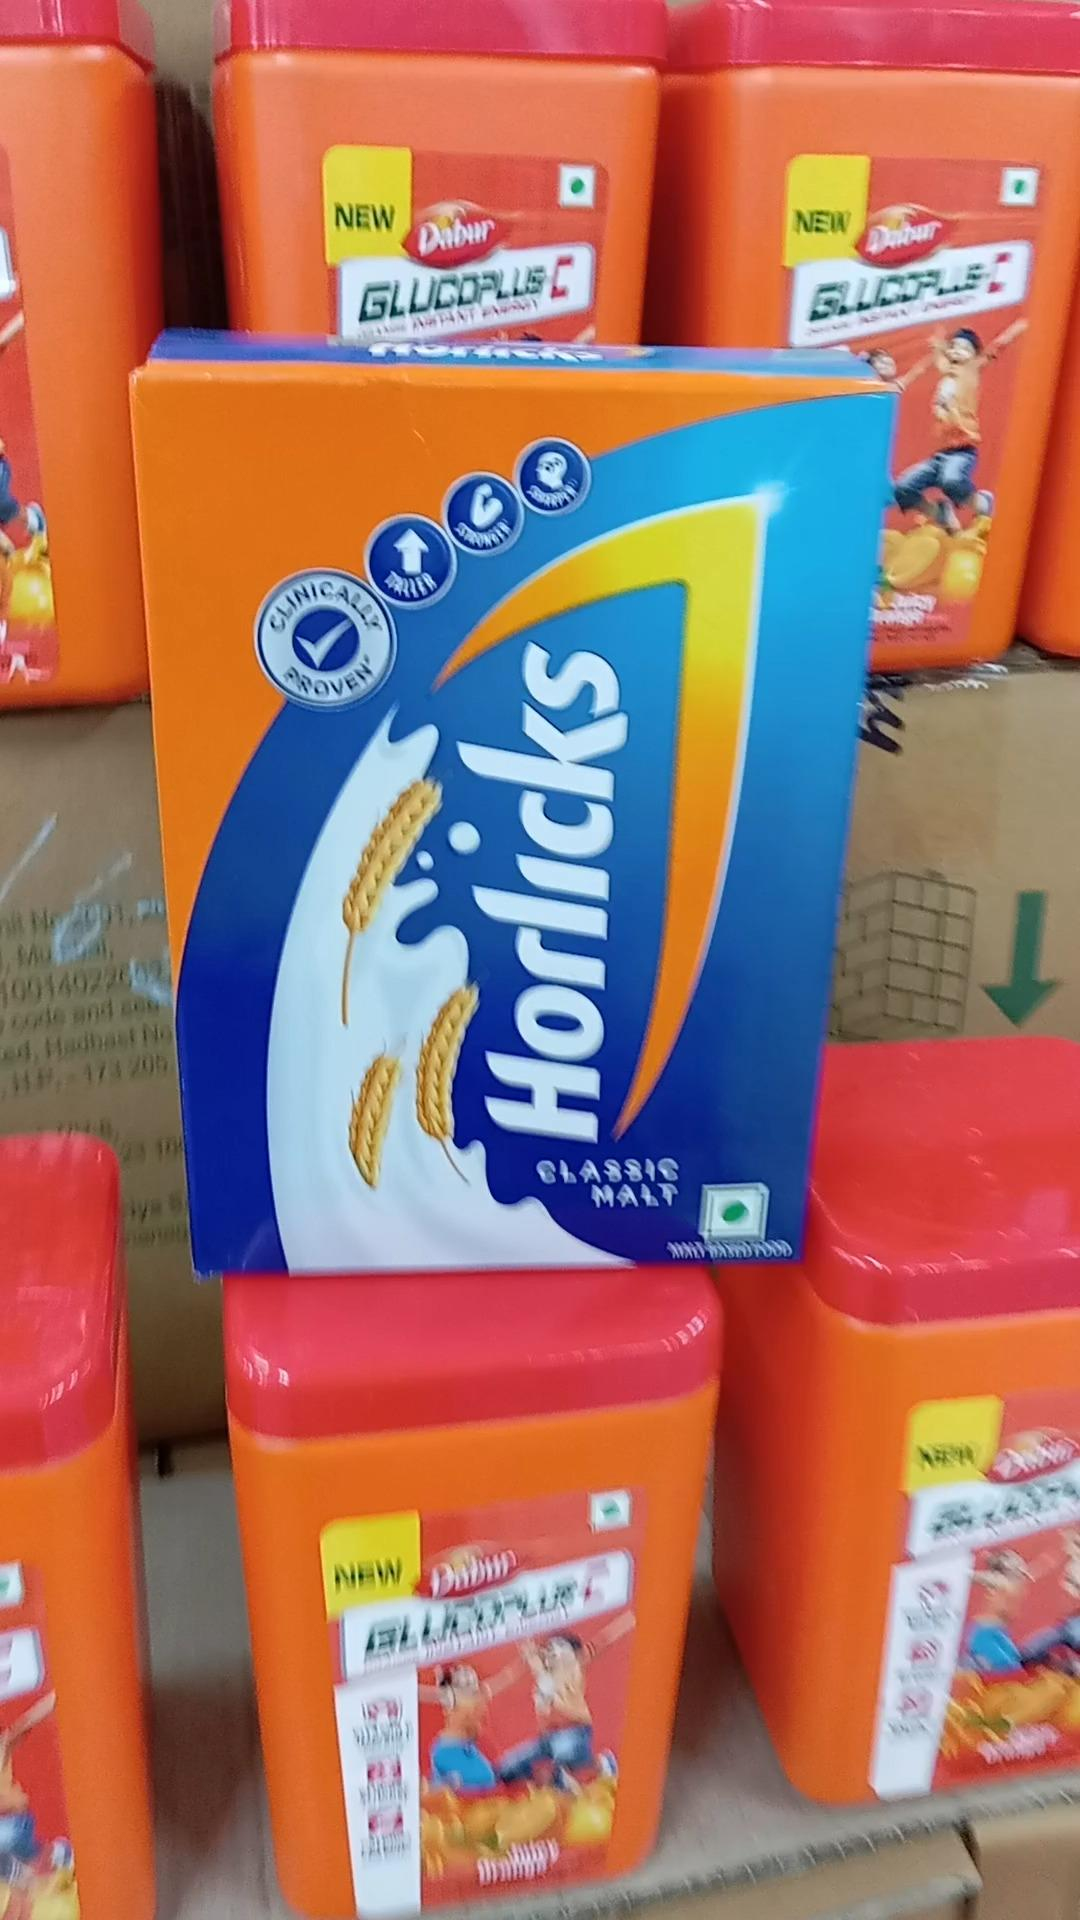HORLICK_CLASSIC_MALT_500_G_PACK: (156, 369, 893, 1269)
